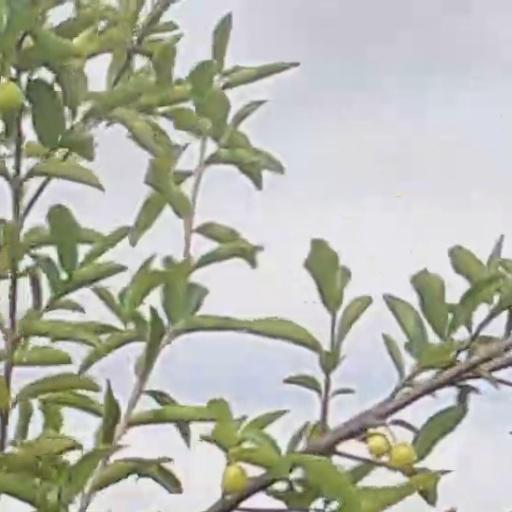acerola_verde: (1, 82, 24, 120)
